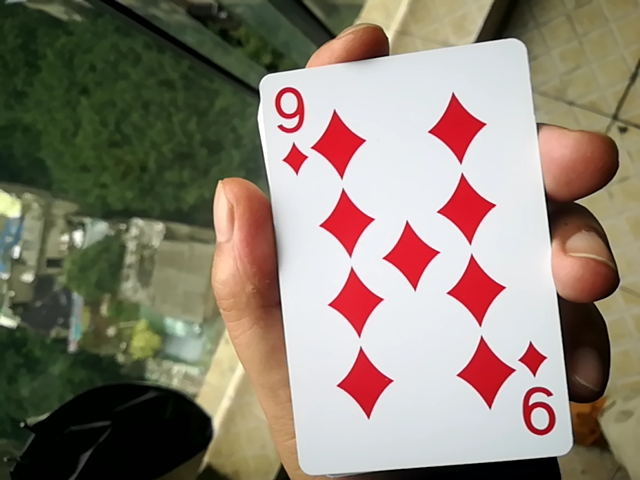fk 9: (235, 41, 575, 467)
